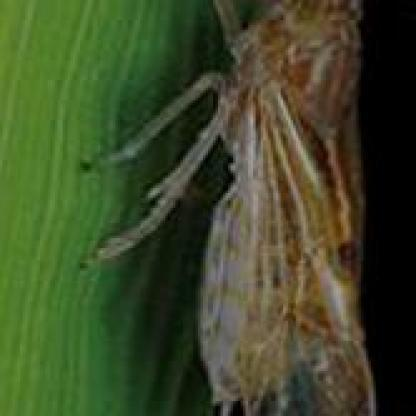brown-planthopper: (187, 2, 377, 416)
